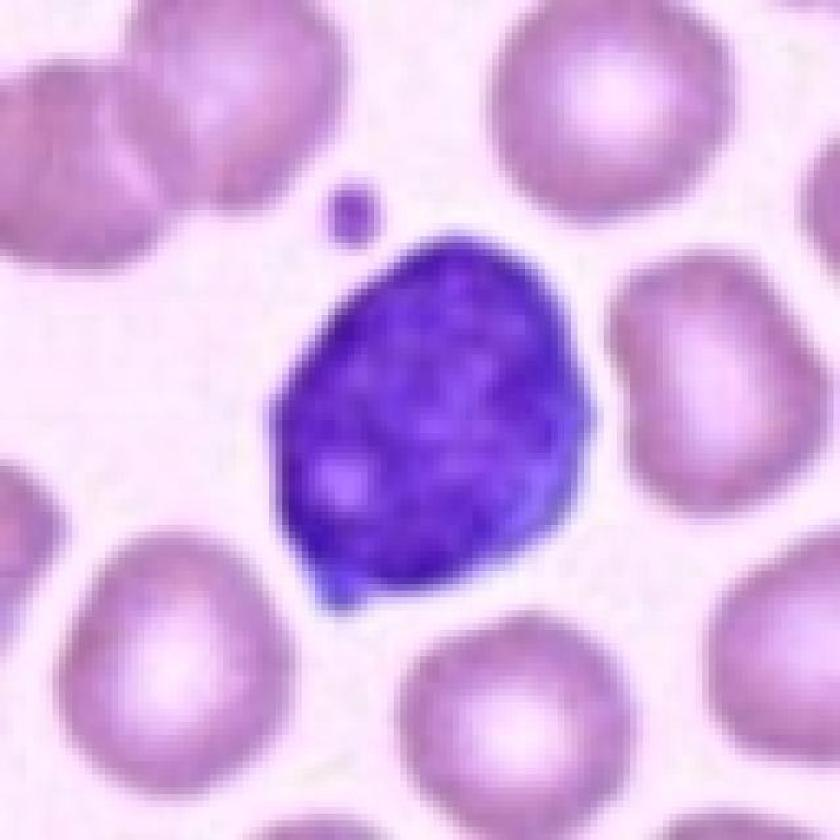lymphocyte: (260, 218, 605, 633)
